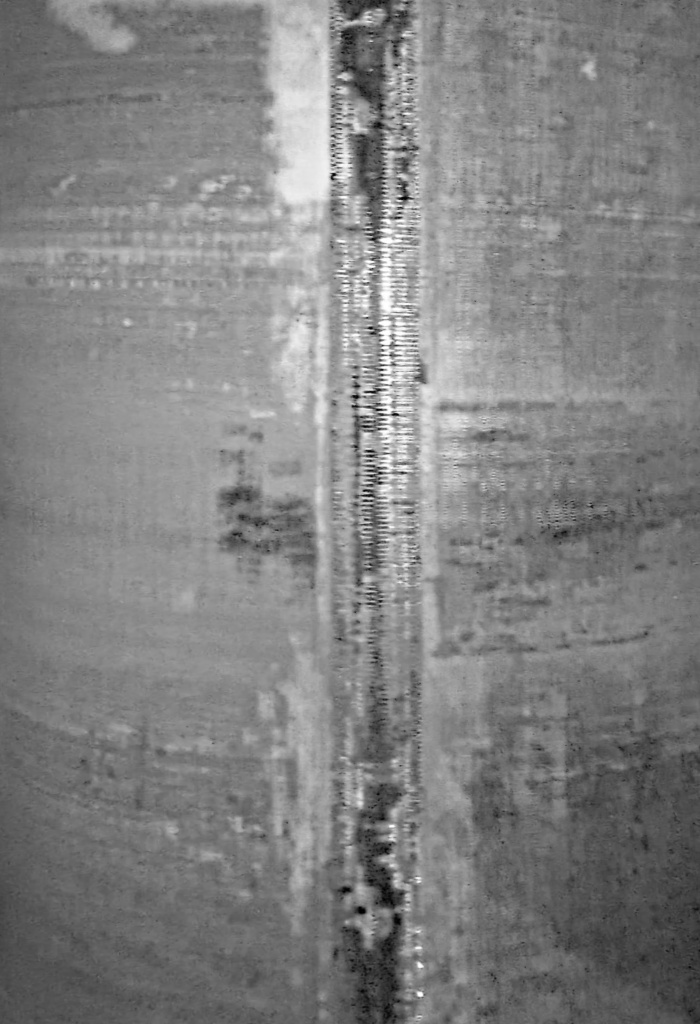splice: (314, 1, 435, 1024)
